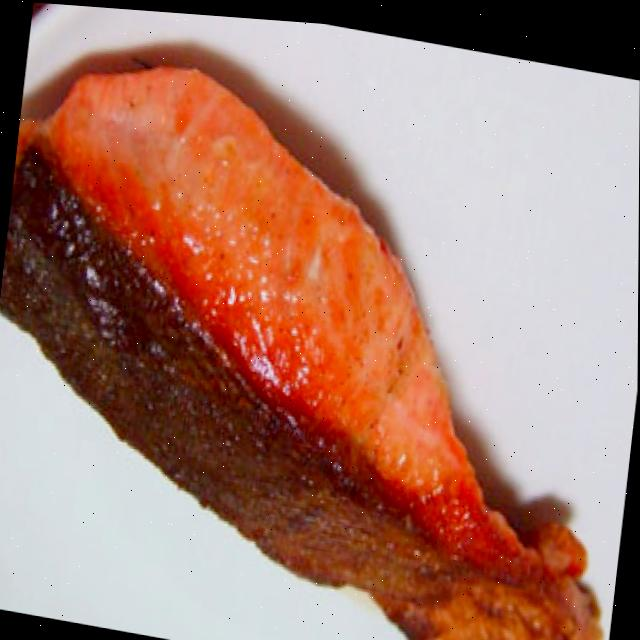熟制海鲜: (0, 34, 640, 640)
